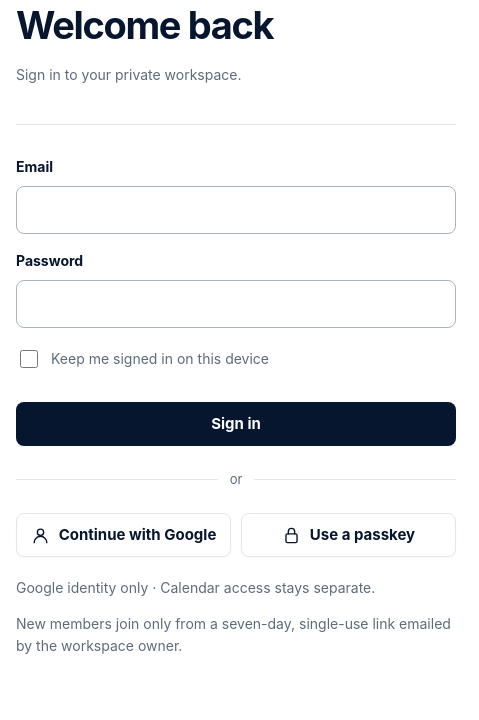
Test: invite-only authentication routes › handles passkey cancellation as a retryable, nonfatal state
The image size is (479, 720).
(page scrolled)
Click the button "Use a passkey".
click(348, 535)  # box left=241, top=513, right=456, bottom=557
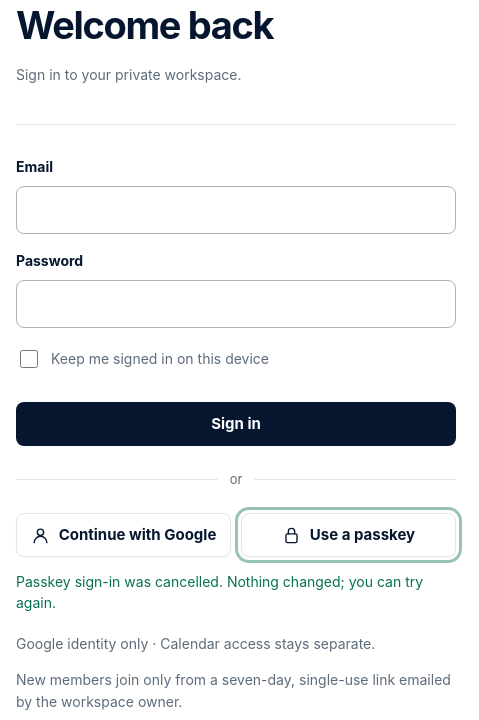
expect the text "Google identity only · Calendar access stays separate." is shown: met, box left=16, top=635, right=375, bottom=652
expect the message reads "Passkey sign-in was cancelled. Nothing changed; you can try again.": met, box left=16, top=573, right=423, bottom=611
